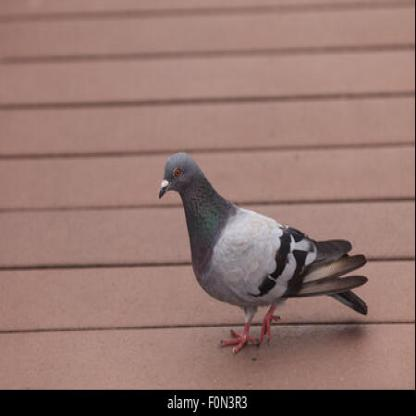Rock Pigeon: (162, 154, 369, 336)
